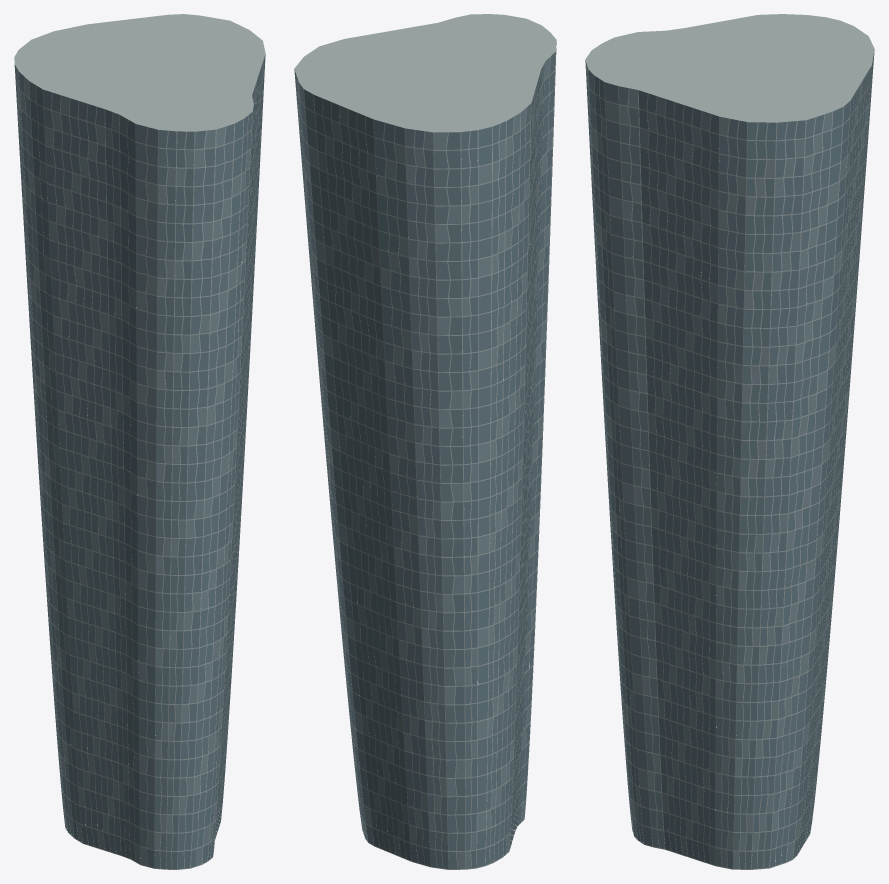
File: tour-alto-near.glb
The picture shows the model from 3 angles, left to right: view 1: azimuth 30°, elevation 25°; view 2: azimuth 150°, elevation 25°; view 3: azimuth 270°, elevation 25°; orthographic projection. The views are drawn at different scales.
Visible parts, largest first — view 1: tour-alto-0-glass, tour-alto-0-frame, tour-alto-0-glassPale, tour-alto-0-roof; view 2: tour-alto-0-glass, tour-alto-0-frame, tour-alto-0-glassPale, tour-alto-0-roof; view 3: tour-alto-0-glass, tour-alto-0-frame, tour-alto-0-glassPale, tour-alto-0-roof.
Boxes of the visible parts, x1,y1,x2,y2 form: tour-alto-0-glass: (14,54,265,868); tour-alto-0-frame: (16,55,265,869); tour-alto-0-glassPale: (16,59,263,865); tour-alto-0-roof: (14,14,265,131); tour-alto-0-glass: (294,43,556,868); tour-alto-0-frame: (295,51,555,869); tour-alto-0-glassPale: (297,57,554,868); tour-alto-0-roof: (294,14,556,132); tour-alto-0-glass: (586,52,874,868); tour-alto-0-frame: (586,50,874,869); tour-alto-0-glassPale: (585,60,872,868); tour-alto-0-roof: (585,14,874,122).
Size of the model in its own units: 48.25 by 160 by 54.28.
